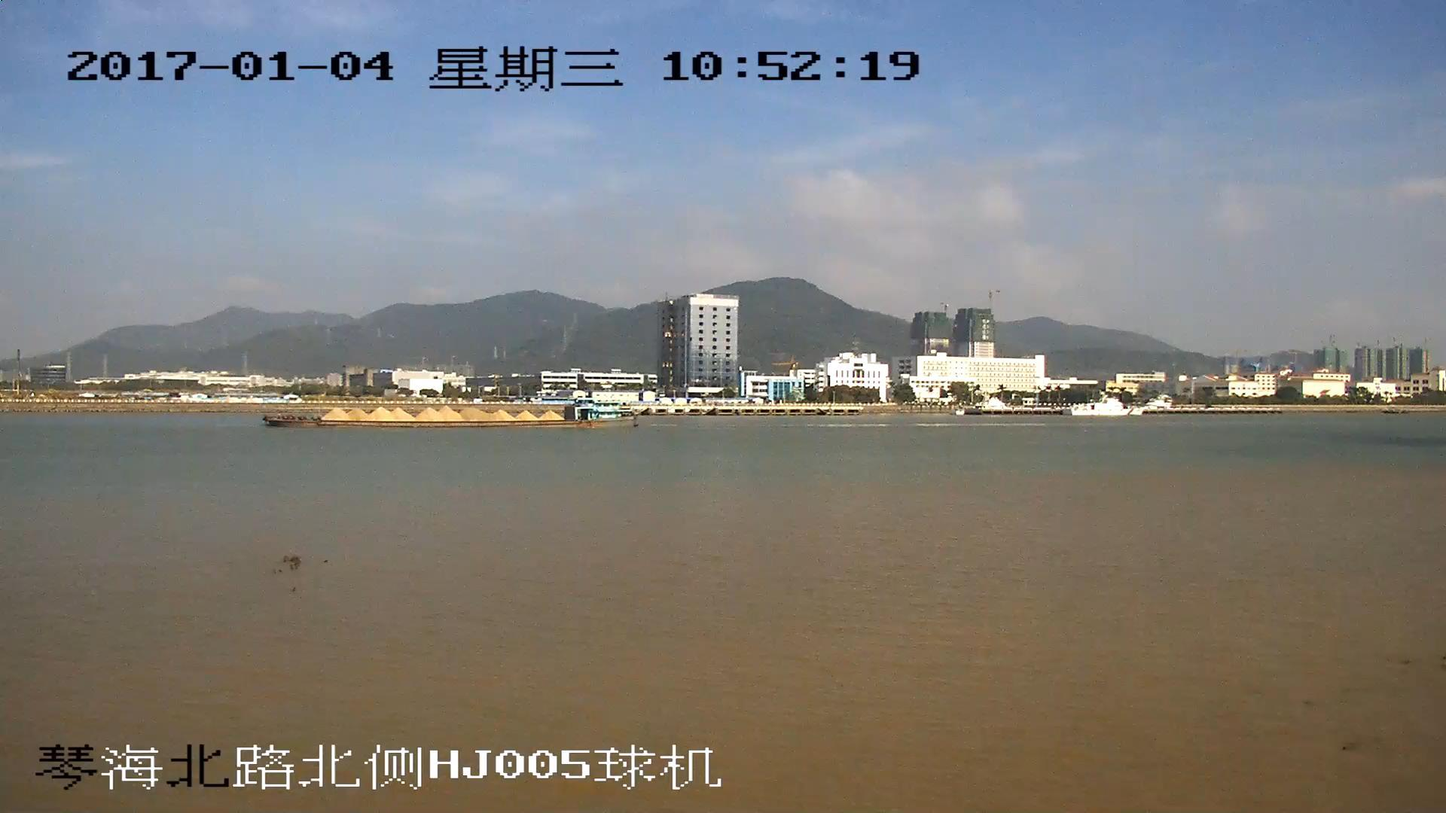ore carrier: (262, 397, 626, 428)
